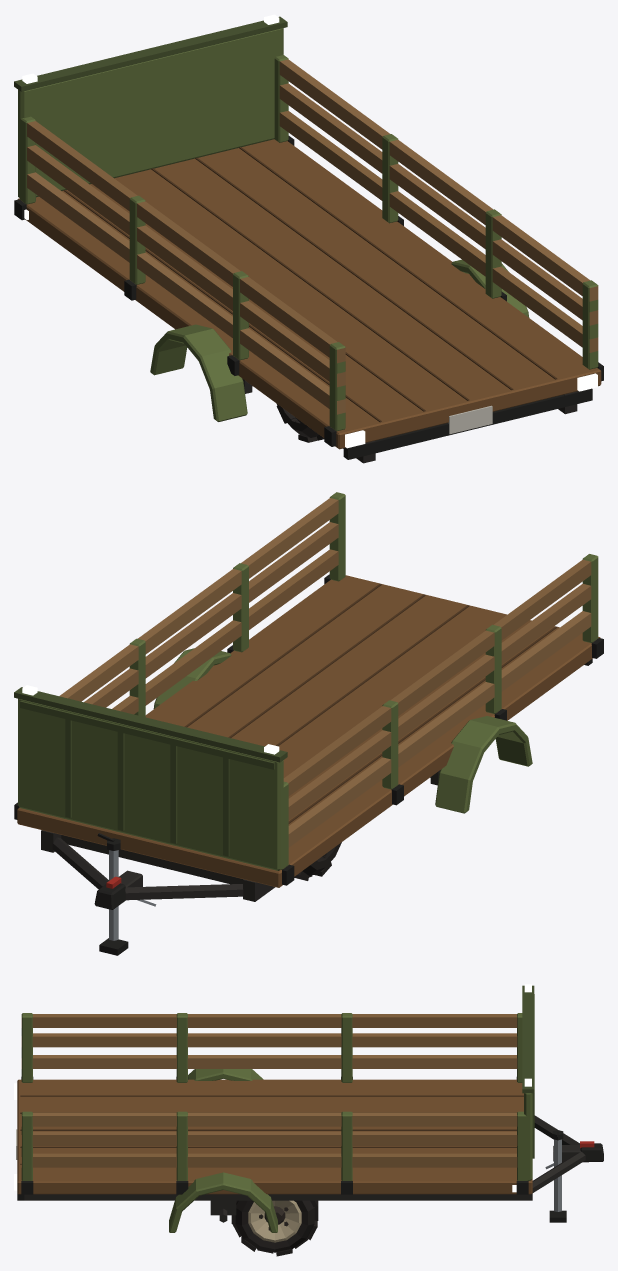
File: RanchTrailer.glb
3 views of the same model, one above another, from view 1: azimuth 30°, elevation 25°; view 2: azimuth 150°, elevation 25°; view 3: azimuth 270°, elevation 25° (orthographic). The views are drawn at different scales.
Visible parts, largest first — view 1: Bed, Body, Lights, Wheel; view 2: Bed, Body, Hitch; view 3: Bed, Body, Wheel, Hitch.
Boxes of the visible parts, box(x1,y1,x2,y2) form: Bed: box(14, 16, 603, 449); Body: box(150, 259, 592, 463); Lights: box(22, 14, 597, 448); Wheel: box(276, 403, 324, 442); Bed: box(14, 492, 603, 887); Body: box(41, 648, 592, 901); Hitch: box(52, 833, 243, 955); Bed: box(17, 985, 534, 1194); Body: box(16, 1069, 532, 1232); Wheel: box(231, 1200, 318, 1256); Hitch: box(532, 1115, 603, 1222).
Size of the model in its own units: 10.31 by 8.51 by 20.84.
